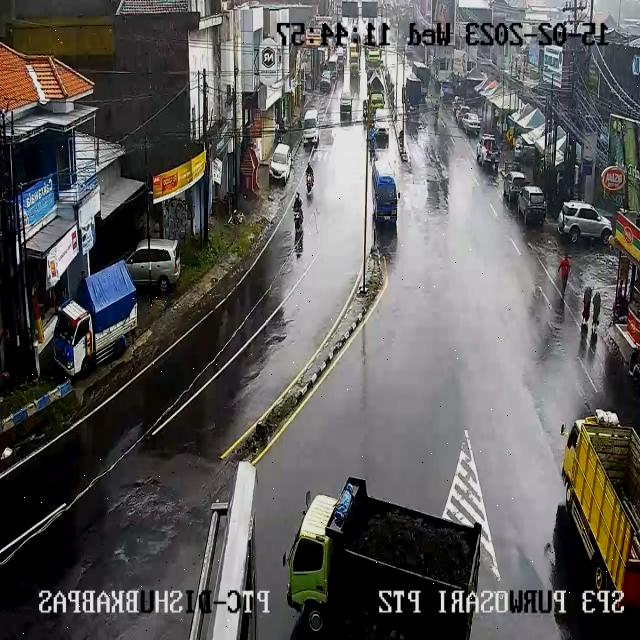Bus: (54, 264, 136, 379), (368, 164, 400, 232), (412, 61, 432, 96)
Car: (120, 233, 181, 290), (557, 202, 614, 245), (516, 186, 547, 226), (270, 144, 293, 184), (476, 134, 500, 168), (502, 171, 528, 202), (373, 108, 392, 144), (302, 108, 320, 144), (404, 74, 422, 108), (514, 137, 534, 163), (461, 113, 481, 135), (320, 70, 335, 92), (340, 98, 353, 122), (454, 104, 470, 123), (441, 82, 456, 102), (327, 54, 339, 75), (336, 46, 344, 61)
Motorbike: (289, 194, 308, 242), (305, 170, 314, 196)
Truck: (286, 477, 485, 639), (560, 409, 640, 631), (366, 69, 387, 114), (365, 47, 382, 69), (349, 44, 360, 64)
